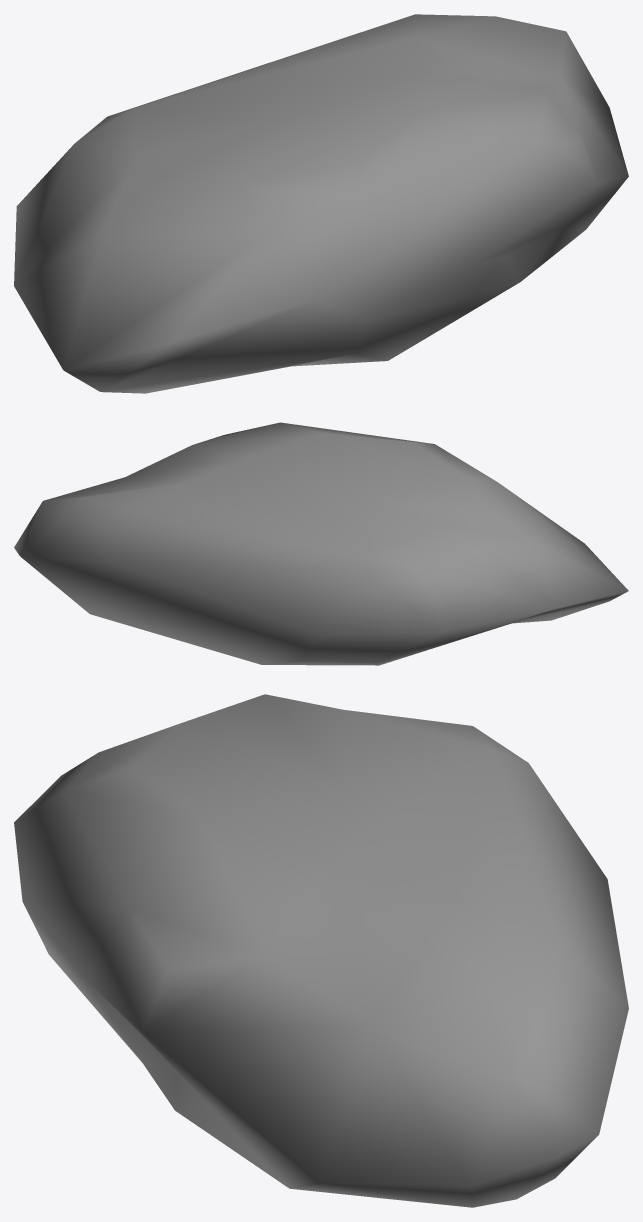
The model's file is Stone4_3.fbx.
The picture shows the model from 3 angles, top to bottom: view 1: azimuth 30°, elevation 25°; view 2: azimuth 150°, elevation 25°; view 3: azimuth 270°, elevation 25°; orthographic projection. The views are drawn at different scales.
Parts seen in each view (by area): view 1: Stone3; view 2: Stone3; view 3: Stone3.
Part boxes in pixels (x1=…): Stone3: x1=14, y1=14, x2=628, y2=393; Stone3: x1=14, y1=422, x2=628, y2=665; Stone3: x1=14, y1=694, x2=628, y2=1207.
Bounding box in the file's own units: 172 × 54.96 × 104.
